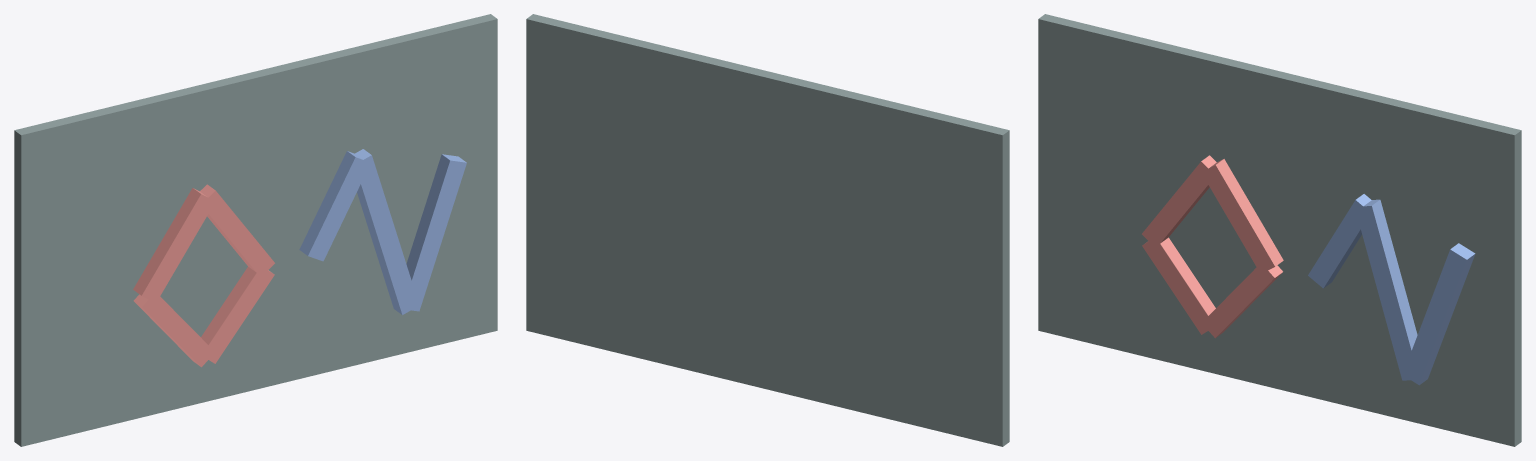
The model's file is neonSign.glb.
3 renders of one model, left to right at view 1: azimuth 30°, elevation 25°; view 2: azimuth 150°, elevation 25°; view 3: azimuth 330°, elevation 25°, orthographic.
Visible parts, largest first — view 1: neonSign; view 2: neonSign; view 3: neonSign.
Boxes of the visible parts, <box> form: neonSign: <box>14,14,497,446</box>; neonSign: <box>526,14,1009,446</box>; neonSign: <box>1038,14,1521,446</box>.
Bounding box in the file's own units: 0.4 × 0.25 × 0.0225.
